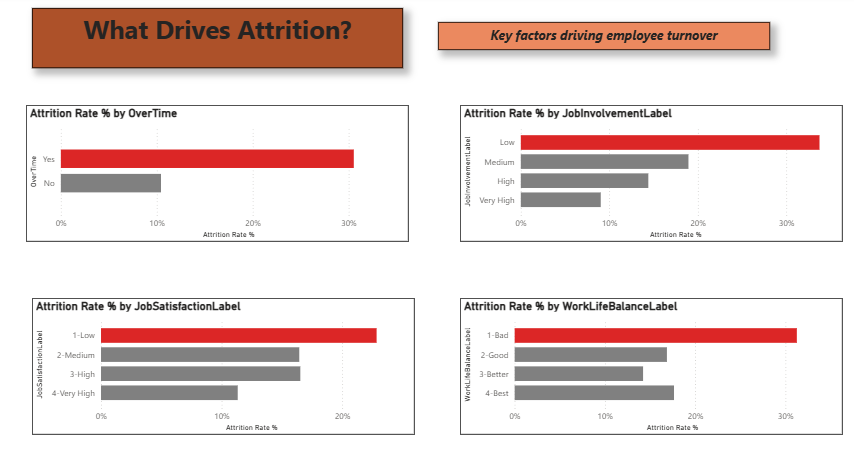

The page's visual inventory and layout, read from the dashboard file:
{"tool":"powerbi","page":{"name":"Attrition Drive","canvas":[1280,720],"ordinal":1},"visuals":[{"type":"textbox","box":[48.3,17.6,542.9,87.8],"z":0},{"type":"clusteredBarChart","fields":{"Category":["hr_attrition_cleaned.OverTime"],"Y":["hr_attrition_cleaned.Attrition Rate %"]},"box":[39.5,159.5,560.5,200.5],"z":1000},{"type":"barChart","fields":{"Category":["hr_attrition_cleaned.WorkLifeBalanceLabel"],"Y":["hr_attrition_cleaned.Attrition Rate %"]},"box":[674.6,442,560.5,200.5],"z":2000},{"type":"barChart","fields":{"Category":["hr_attrition_cleaned.JobSatisfactionLabel"],"Y":["hr_attrition_cleaned.Attrition Rate %"]},"box":[48.3,442,560.5,200.5],"z":3000},{"type":"clusteredBarChart","fields":{"Category":["hr_attrition_cleaned.JobInvolvementLabel"],"Y":["hr_attrition_cleaned.Attrition Rate %"]},"box":[674.6,159.5,560.5,200.5],"z":4000},{"type":"textbox","box":[642,38,485.9,41],"z":5000}]}

Visuals, with their boxes on the page's 1280x720 design canvas (x1, y1, x2, y2). These are canvas units, not pixel positions in the 854x466 screenshot, which may show the page scaled, cropped or inside an application window:
textbox: rect(48, 18, 591, 105)
clusteredBarChart - hr_attrition_cleaned.OverTime x hr_attrition_cleaned.Attrition Rate %: rect(40, 160, 600, 360)
barChart - hr_attrition_cleaned.WorkLifeBalanceLabel x hr_attrition_cleaned.Attrition Rate %: rect(675, 442, 1235, 642)
barChart - hr_attrition_cleaned.JobSatisfactionLabel x hr_attrition_cleaned.Attrition Rate %: rect(48, 442, 609, 642)
clusteredBarChart - hr_attrition_cleaned.JobInvolvementLabel x hr_attrition_cleaned.Attrition Rate %: rect(675, 160, 1235, 360)
textbox: rect(642, 38, 1128, 79)
